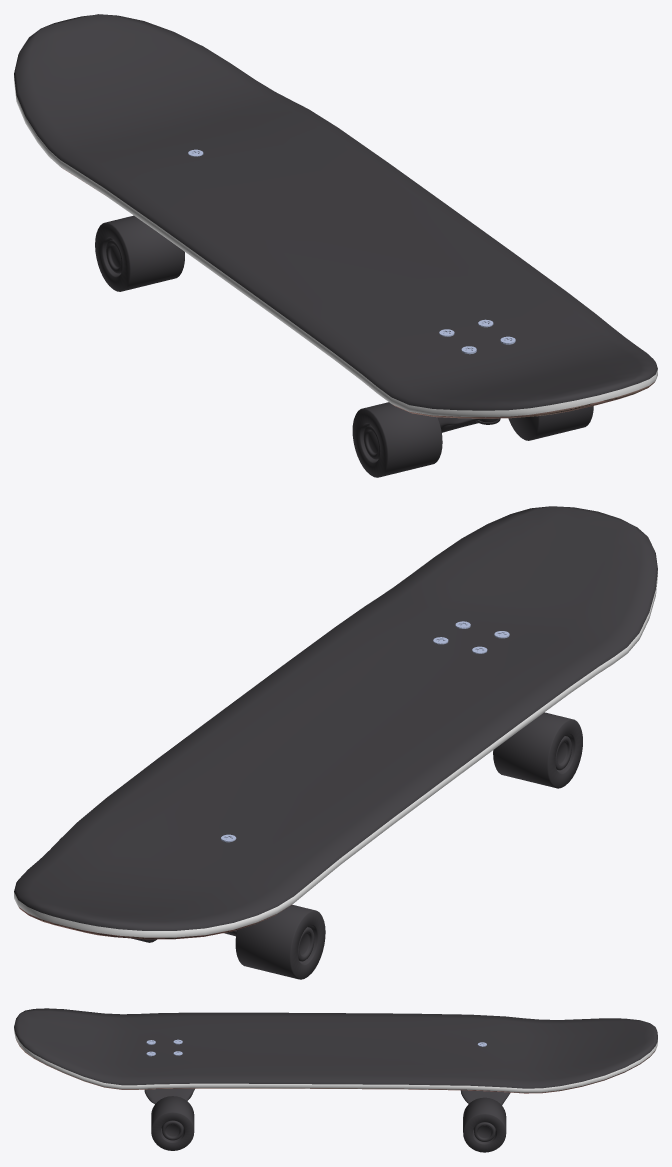
The model's file is exportSk.glb.
3 renders of one model, top to bottom at view 1: azimuth 30°, elevation 25°; view 2: azimuth 150°, elevation 25°; view 3: azimuth 270°, elevation 25°, orthographic. The views are drawn at different scales.
Parts seen in each view (by area): view 1: FinalBoard; view 2: FinalBoard; view 3: FinalBoard.
Part boxes in pixels (box(x1,y1,x2,y2)): FinalBoard: box(14, 14, 657, 477); FinalBoard: box(14, 506, 657, 979); FinalBoard: box(14, 1008, 657, 1152).
Size of the model in its own units: 1.1 by 0.7031 by 4.28.
6 materials, 1 textured.
